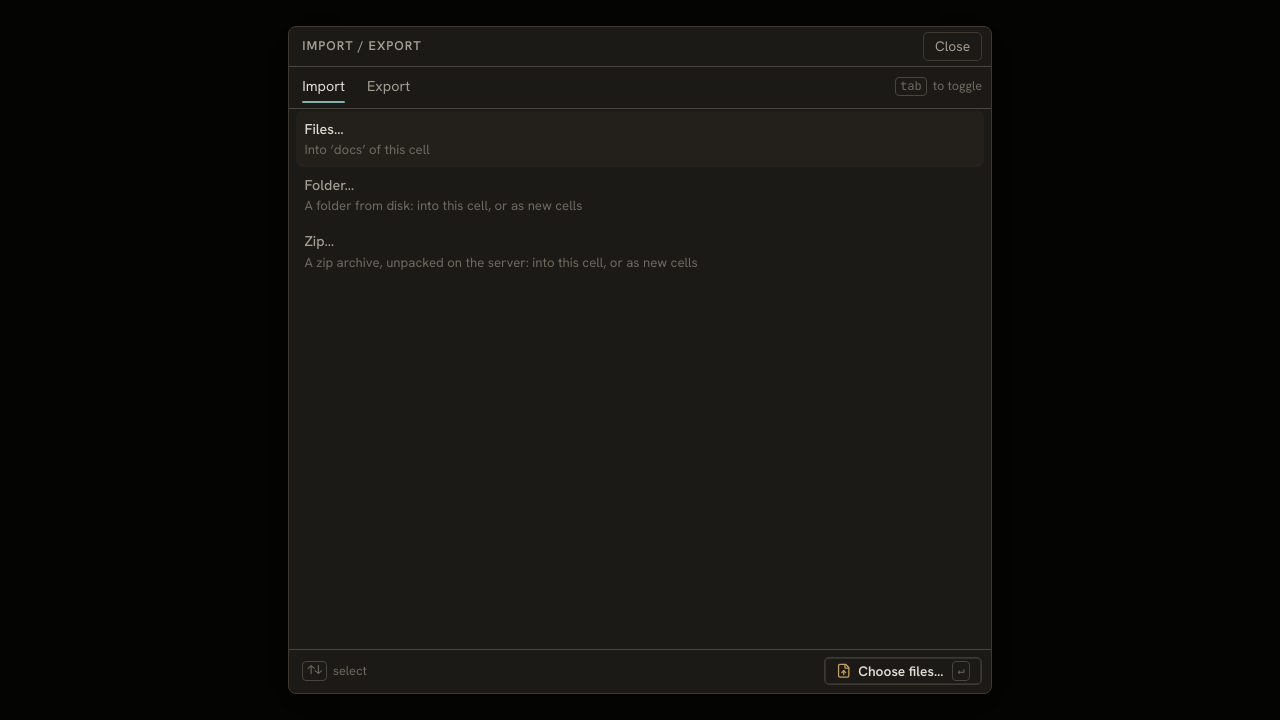
it: Transfer panel: import (TR-11, TR-07) › Folder… opens the step: destination, the valid split levels only, and the preview
Press ArrowDown in the dialog "Import / export", box [288,26,992,694]
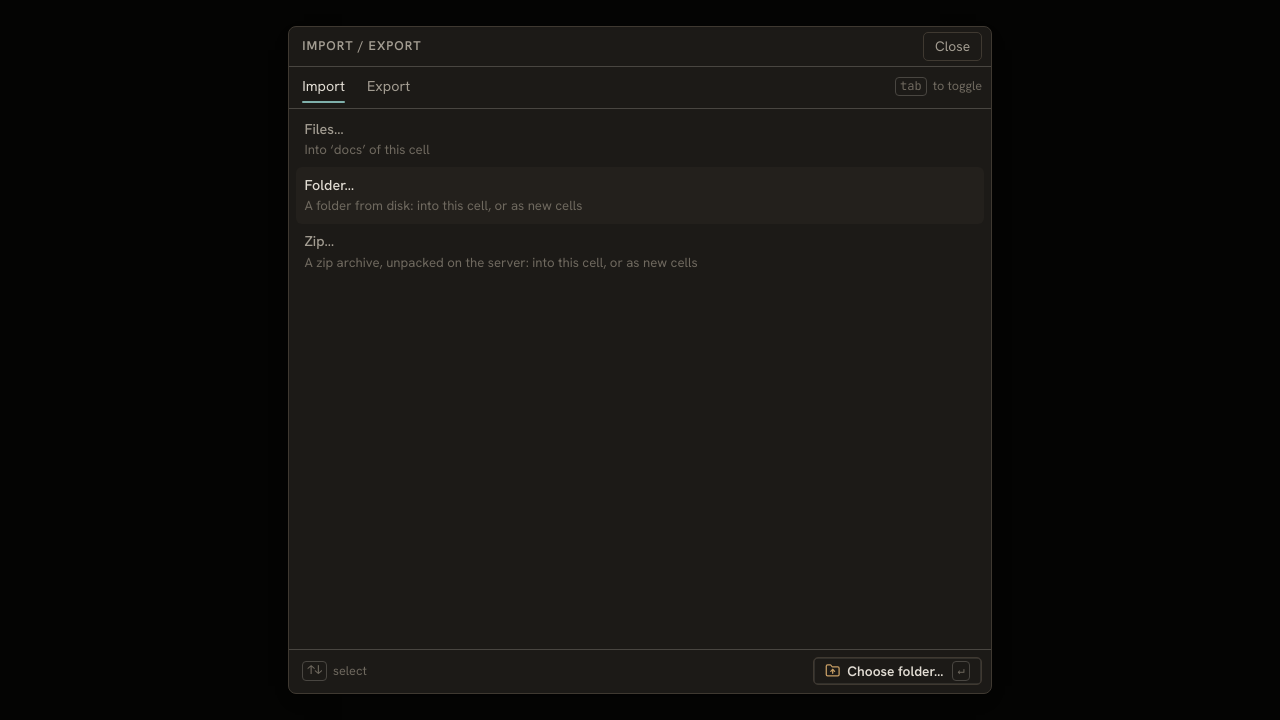
Press Enter in the dialog "Import / export", box [288,26,992,694]
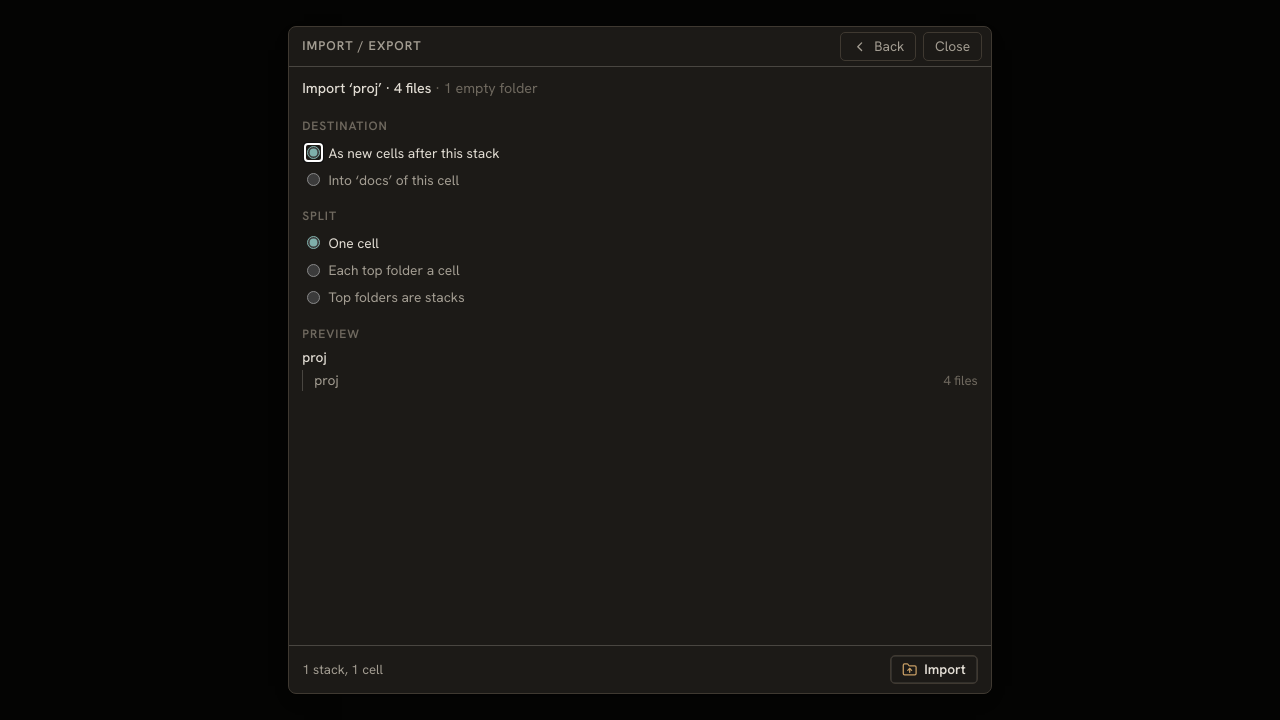
Now the element named "Split level" is shown, box [307,234,465,306]
Now the text "Import ‘proj’ · 4 files · 1 empty folder" is shown, box [302,79,538,97]
Click the radio button labelled "Each top folder a cell". click: point(313, 270)
box: [307,264,320,276]
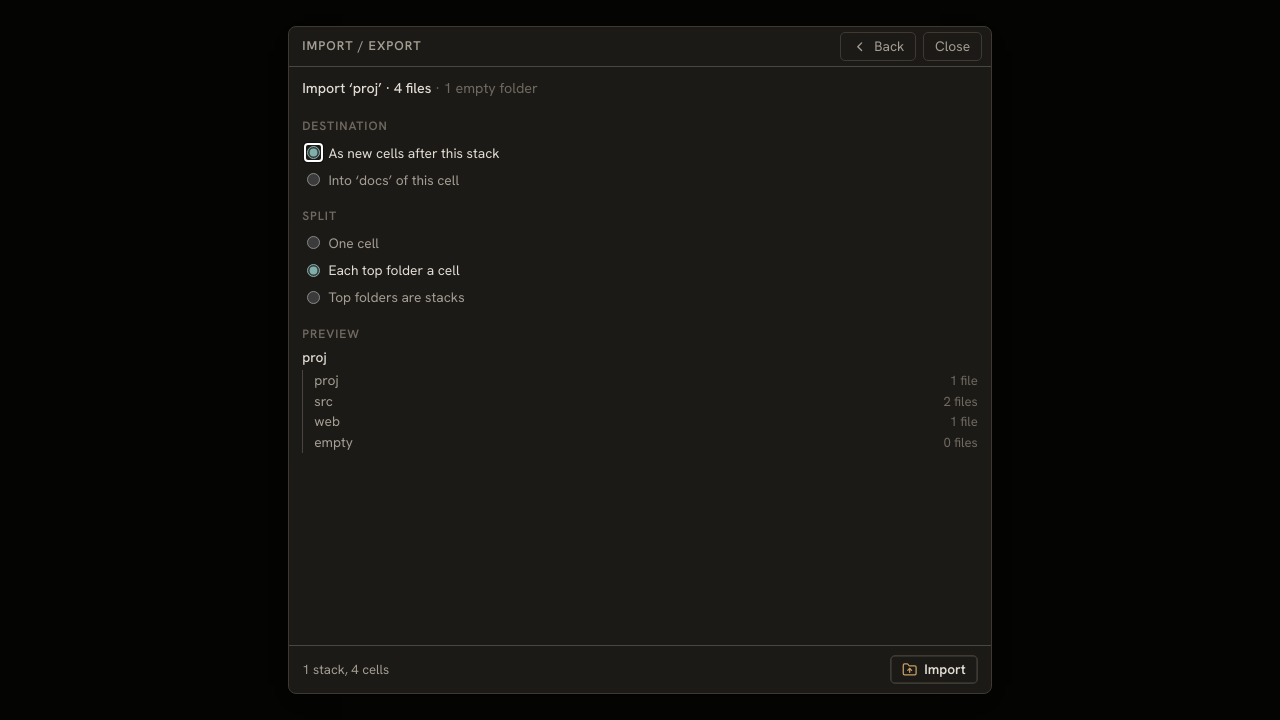
Click the radio button labelled "Top folders are stacks". click: point(313, 297)
box: [307,291,320,304]
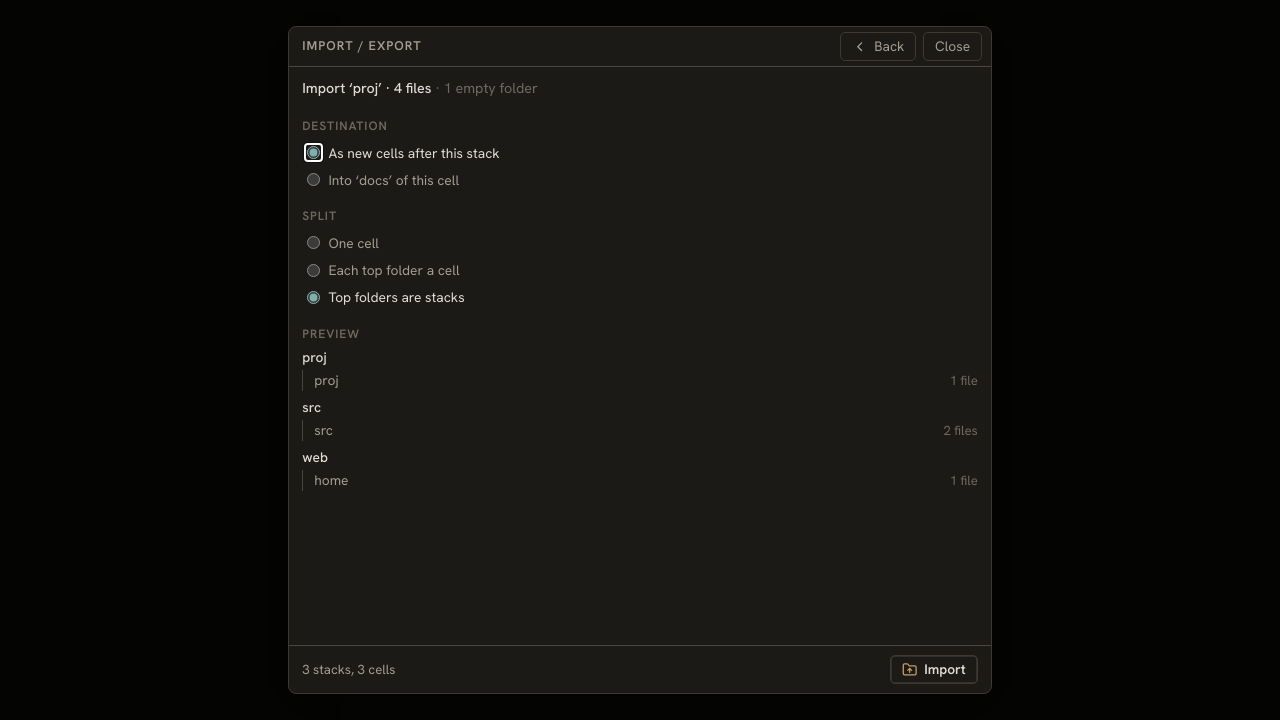
Now the list named "Preview" reads "proj proj 1 file src src 2 files web home 1 file", box [302,347,978,491]
